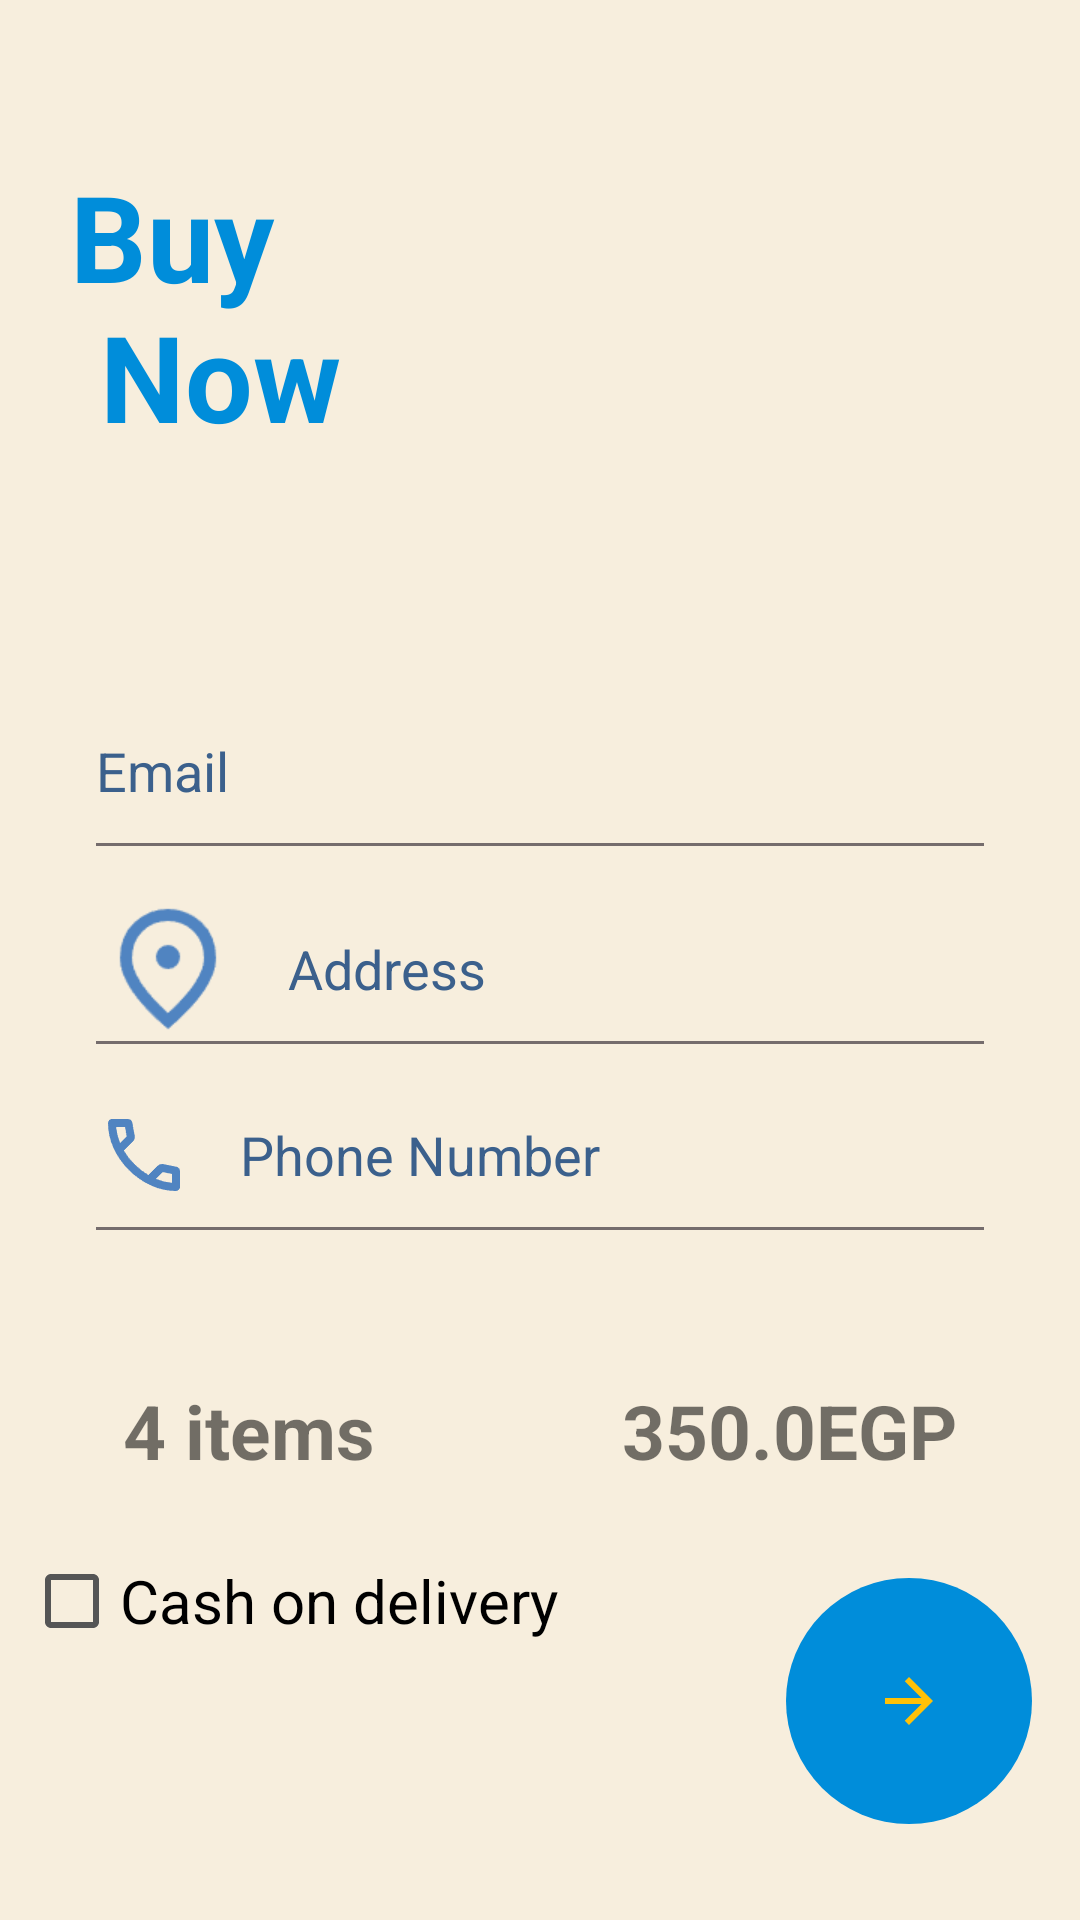

Point at icon controls on the screen. Image size 1080px x 1920px, points as point (x, y).
arrow forward: point (909, 1701)
